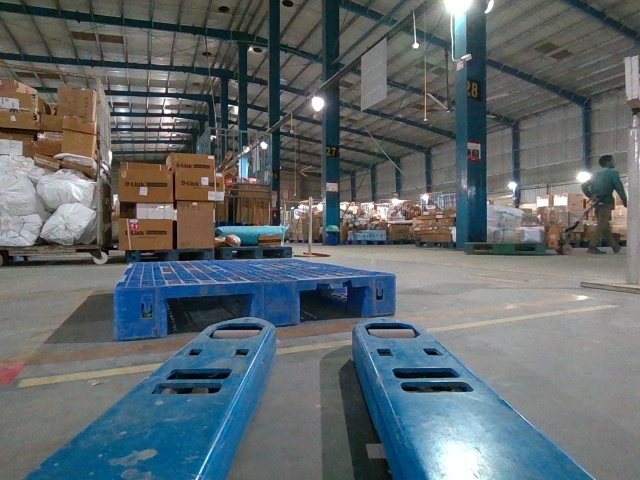block: (112, 284, 170, 341), (254, 280, 300, 326), (365, 275, 398, 317)
front: (111, 274, 398, 339)
hole pallet: (168, 294, 253, 333), (300, 287, 366, 324)
